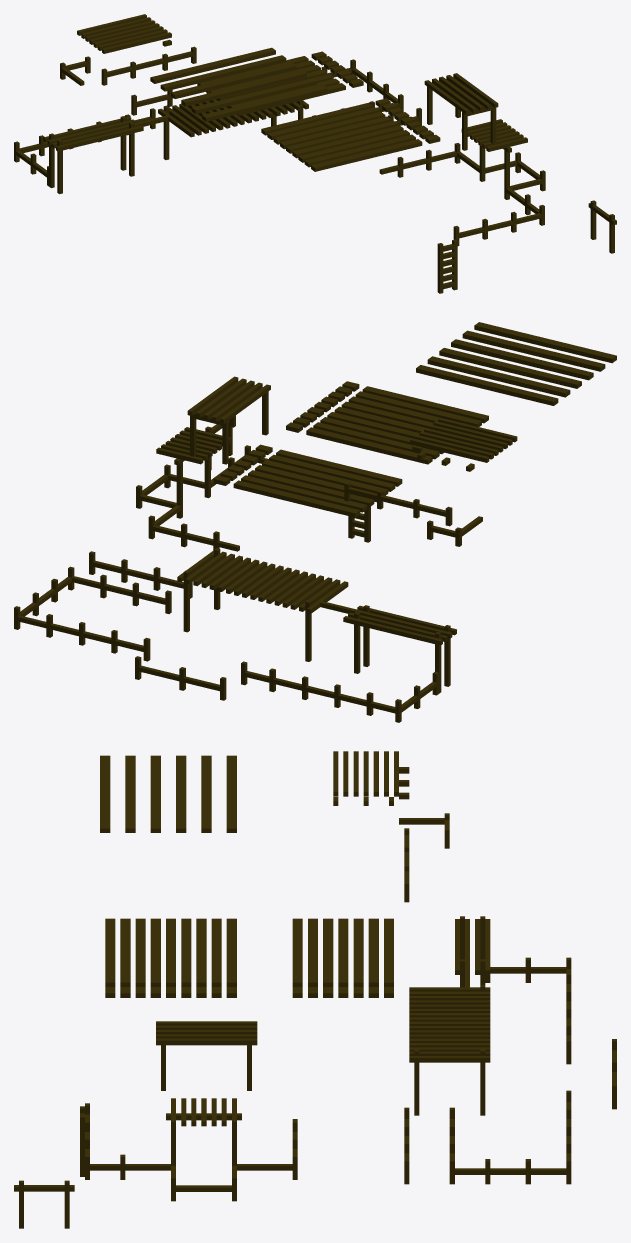
File: hacienda_seps-4.obj
3 views of the same model, one above another, from view 1: azimuth 30°, elevation 25°; view 2: azimuth 150°, elevation 25°; view 3: azimuth 270°, elevation 25° (orthographic). The views are drawn at different scales.
Parts seen in each view (by area): view 1: hacienda_seps-4; view 2: hacienda_seps-4; view 3: hacienda_seps-4.
Boxes of the visible parts, <box> form: hacienda_seps-4: <box>14,14,616,293</box>; hacienda_seps-4: <box>14,322,616,722</box>; hacienda_seps-4: <box>14,751,616,1228</box>.
Bounding box in the file's own units: 107 × 60 × 119.
1 material, 1 textured.
